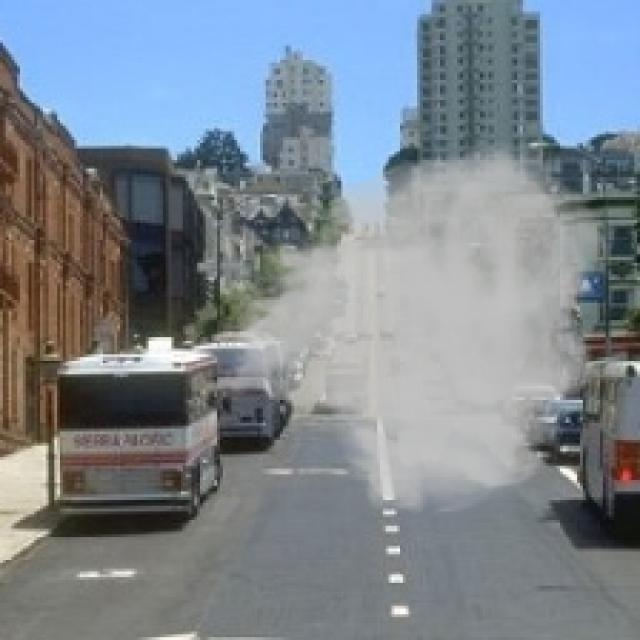smoke: (212, 140, 614, 517)
